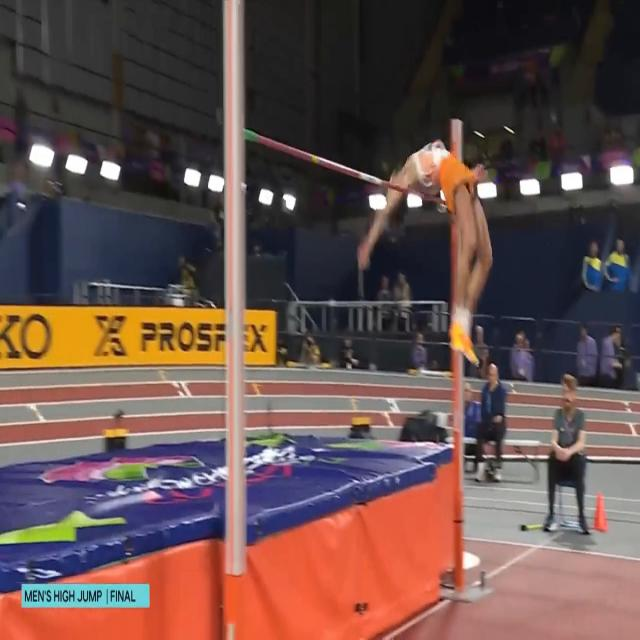jump: (358, 137, 494, 370)
